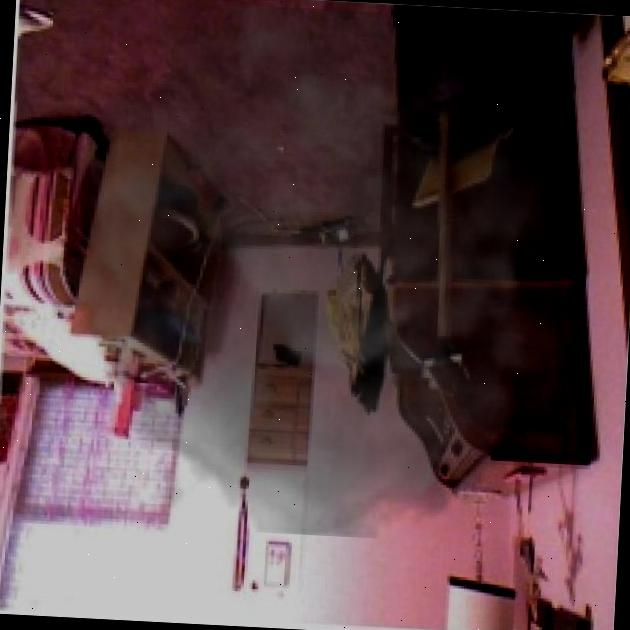smoke: (21, 0, 603, 549)
